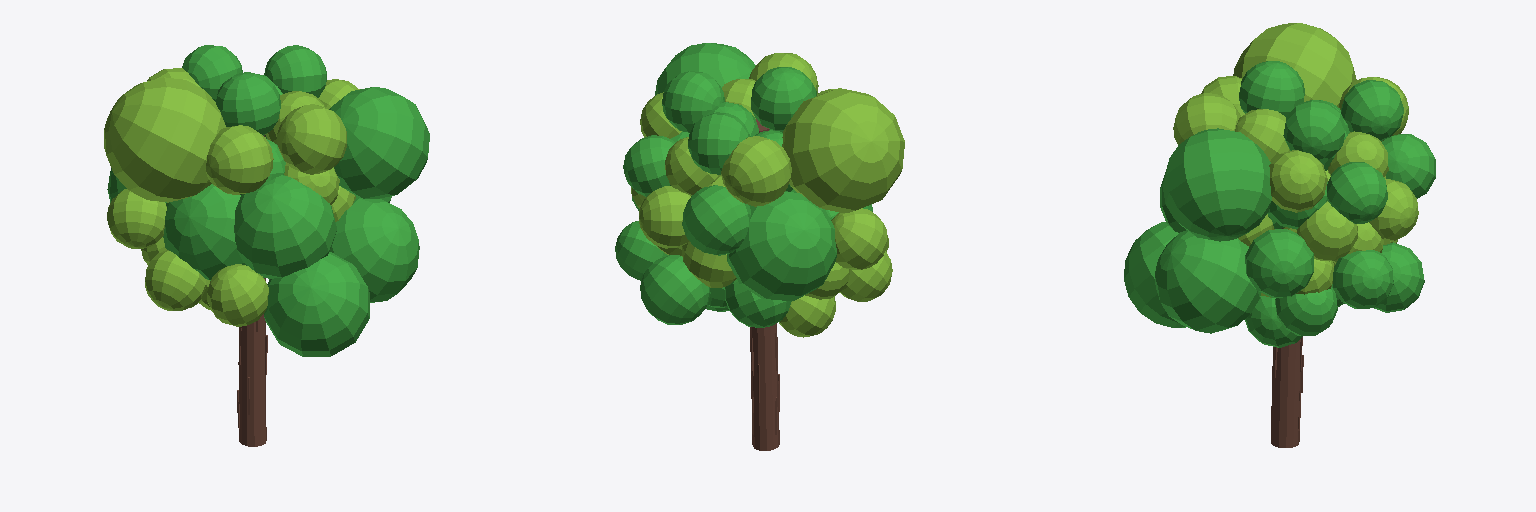
Rendered from tree4.obj.
3 views of the same model, side by side, from view 1: azimuth 30°, elevation 25°; view 2: azimuth 150°, elevation 25°; view 3: azimuth 270°, elevation 25° (orthographic).
Visible parts, largest first — view 1: group2, group[number redacted], group1, group[number redacted], group[number redacted], group[number redacted], group[number redacted], group[number redacted], group[number redacted], group[number redacted]; view 2: group2, group1, group[number redacted], group[number redacted], group[number redacted], group[number redacted], group[number redacted], group[number redacted], group[number redacted], group[number redacted], group[number redacted], group[number redacted]; view 3: group2, group1, group[number redacted], group[number redacted], group[number redacted], group[number redacted], group[number redacted], group[number redacted], group[number redacted], group[number redacted], group[number redacted], group[number redacted].
Part boxes in pixels (x1,y1,x2,y2): group2: (107,45,429,356); group[number redacted]: (104,77,226,202); group1: (141,68,359,326); group[number redacted]: (277,104,346,174); group[number redacted]: (205,125,273,194); group[number redacted]: (237,135,267,446); group[number redacted]: (216,72,280,135); group[number redacted]: (107,189,166,248); group[number redacted]: (264,45,326,97); group[number redacted]: (265,91,325,144); group2: (615,43,872,327); group1: (631,92,892,337); group[number redacted]: (782,88,904,212); group[number redacted]: (640,255,710,324); group[number redacted]: (750,119,779,450); group[number redacted]: (751,67,816,132); group[number redacted]: (831,208,887,269); group[number redacted]: (662,71,724,132); group[number redacted]: (623,135,674,196); group[number redacted]: (749,53,818,93); group[number redacted]: (722,79,755,118); group[number redacted]: (706,102,758,136); group2: (1124,80,1435,347); group1: (1238,77,1418,294); group[number redacted]: (1233,23,1356,107); group[number redacted]: (1271,228,1303,447); group[number redacted]: (1327,162,1387,223); group[number redacted]: (1283,100,1345,161); group[number redacted]: (1239,61,1304,116); group[number redacted]: (1173,93,1240,144); group[number redacted]: (1374,242,1424,312); group[number redacted]: (1235,109,1289,162); group[number redacted]: (1201,76,1244,116); group[number redacted]: (1333,222,1383,263).
Bounding box in the file's own units: 3.78 × 4.94 × 3.74.